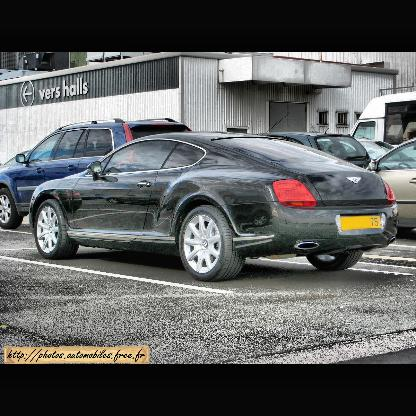Bentley Continental GT Coupe 2007: (29, 133, 405, 284)
